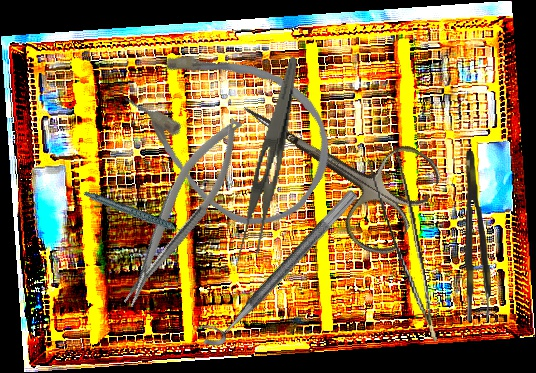Cannula: (103, 11, 356, 249)
Dressing Forceps: (233, 52, 300, 267)
Fixation Ring: (191, 176, 360, 354)
Handpiece: (82, 170, 191, 259)
Iris Scissors: (214, 58, 448, 264)
Needle Holder: (103, 109, 258, 314)
Tissue Forceps: (365, 142, 438, 348), (463, 150, 492, 322)
